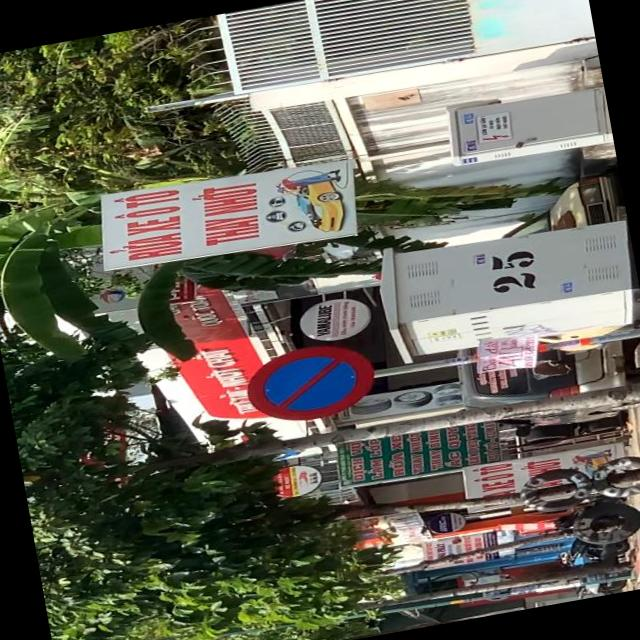P-131a: (240, 338, 378, 428)
